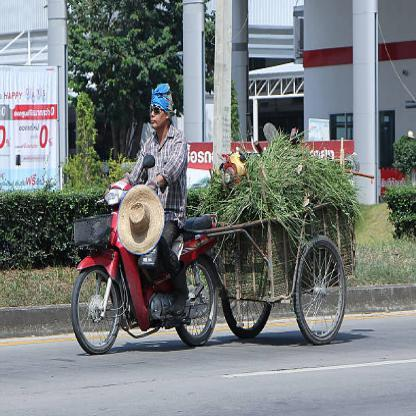Motorcycle: (67, 175, 218, 350)
